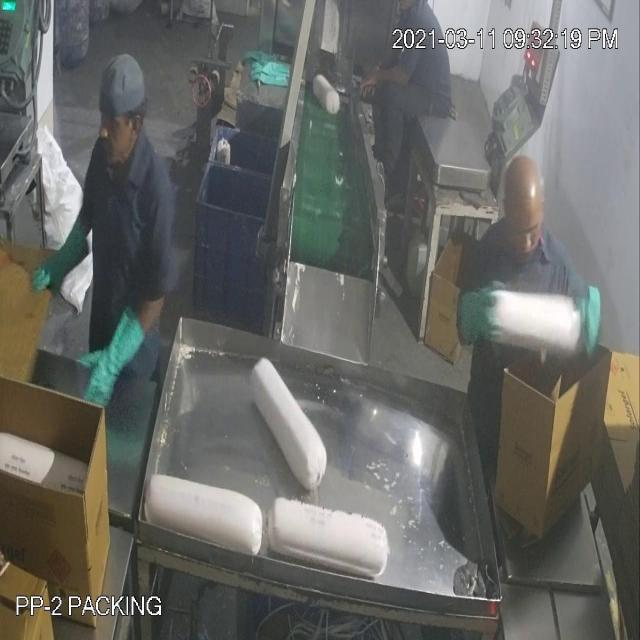No_Gloves: (51, 60, 477, 358)
